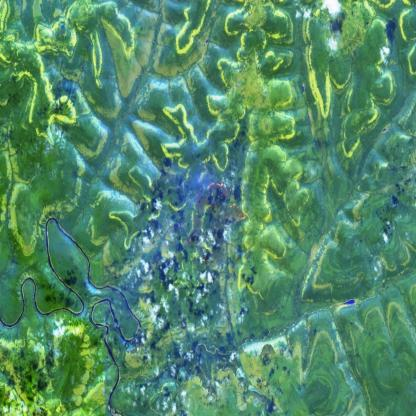fire: (180, 175, 249, 268)
